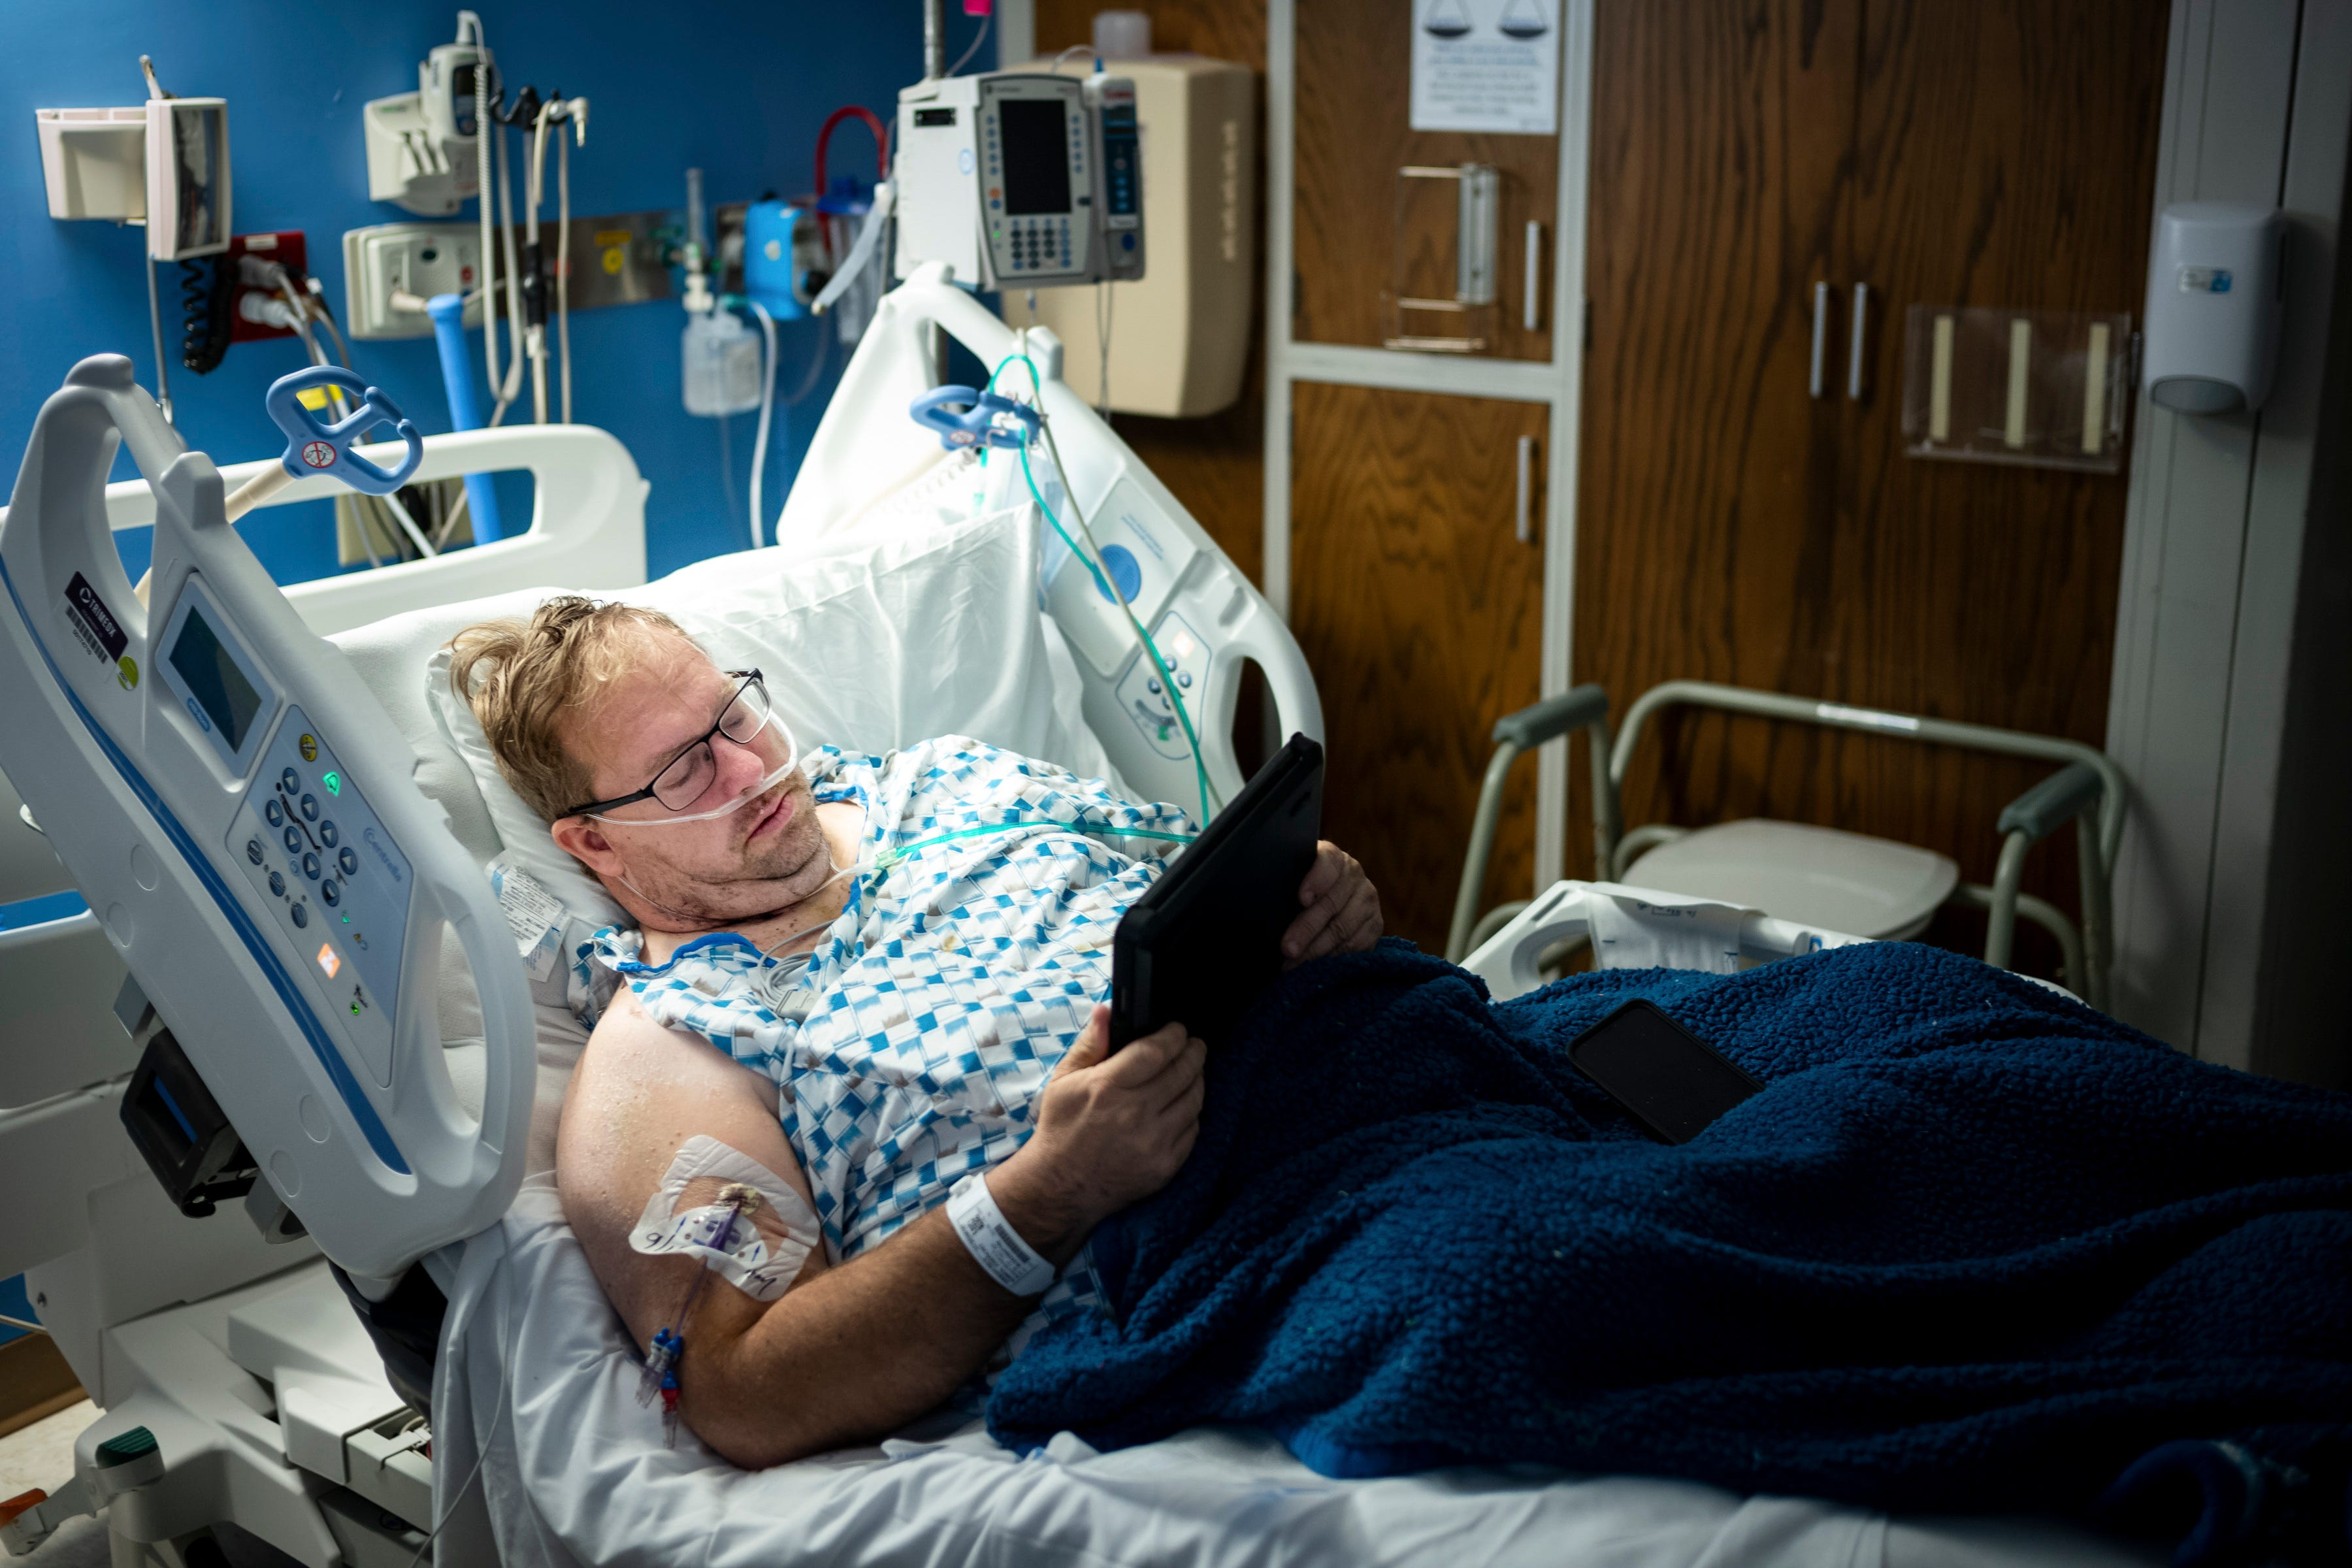bedrail: (1, 342, 540, 1292), (775, 276, 1328, 819)
dispenser: (2150, 201, 2275, 421)
handle: (1842, 272, 1876, 403), (1515, 417, 1544, 549), (1522, 217, 1552, 338), (1811, 263, 1825, 402)
hospital_bed: (5, 415, 2337, 1568)
infusion_pump: (907, 80, 1147, 280)
patient: (450, 582, 2304, 1472)
